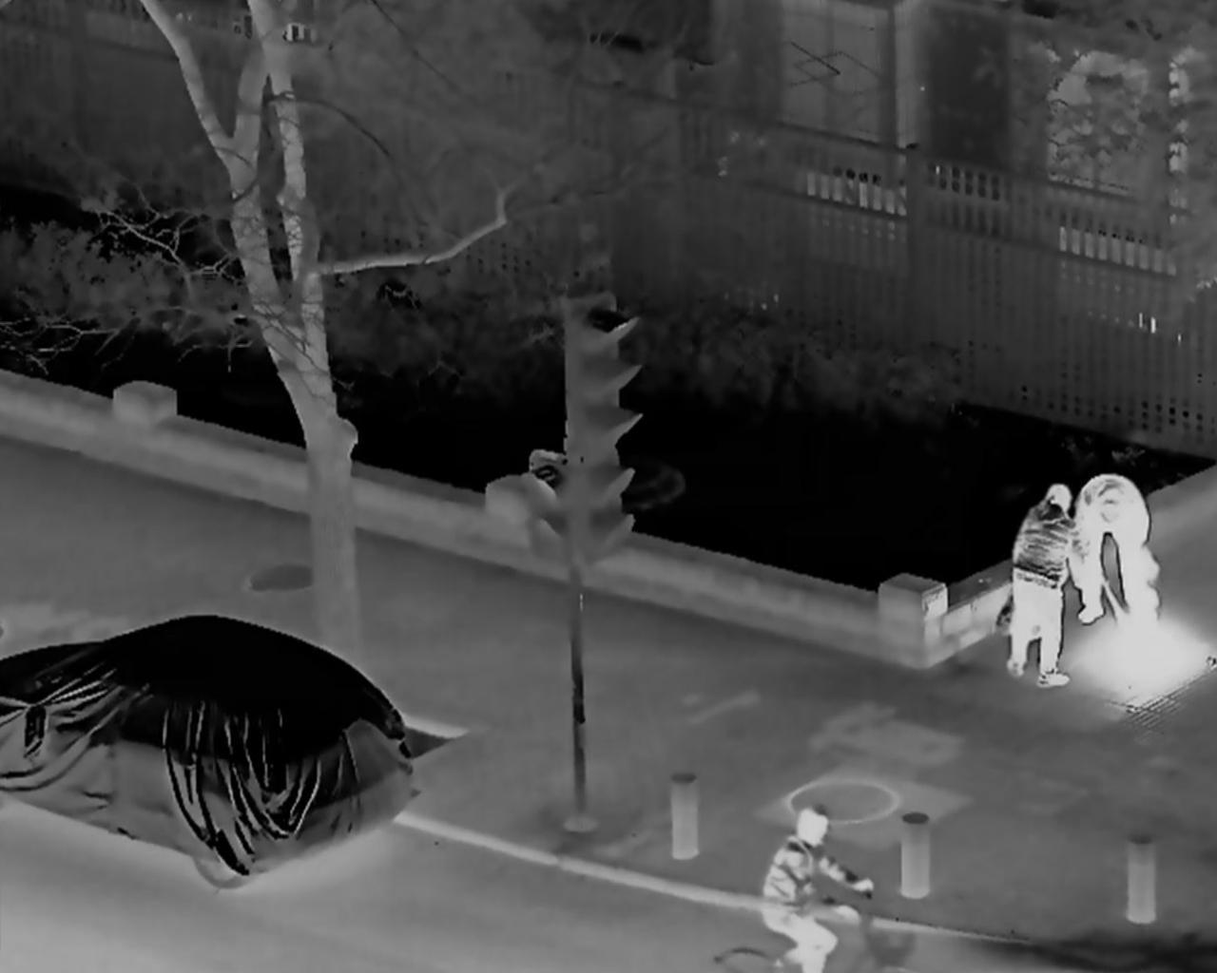person: (760, 809, 869, 973), (1005, 482, 1081, 691), (1072, 474, 1154, 633)
